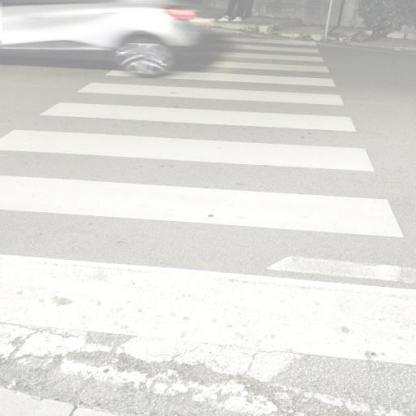crosswalk: (0, 172, 411, 370), (30, 79, 366, 139)
